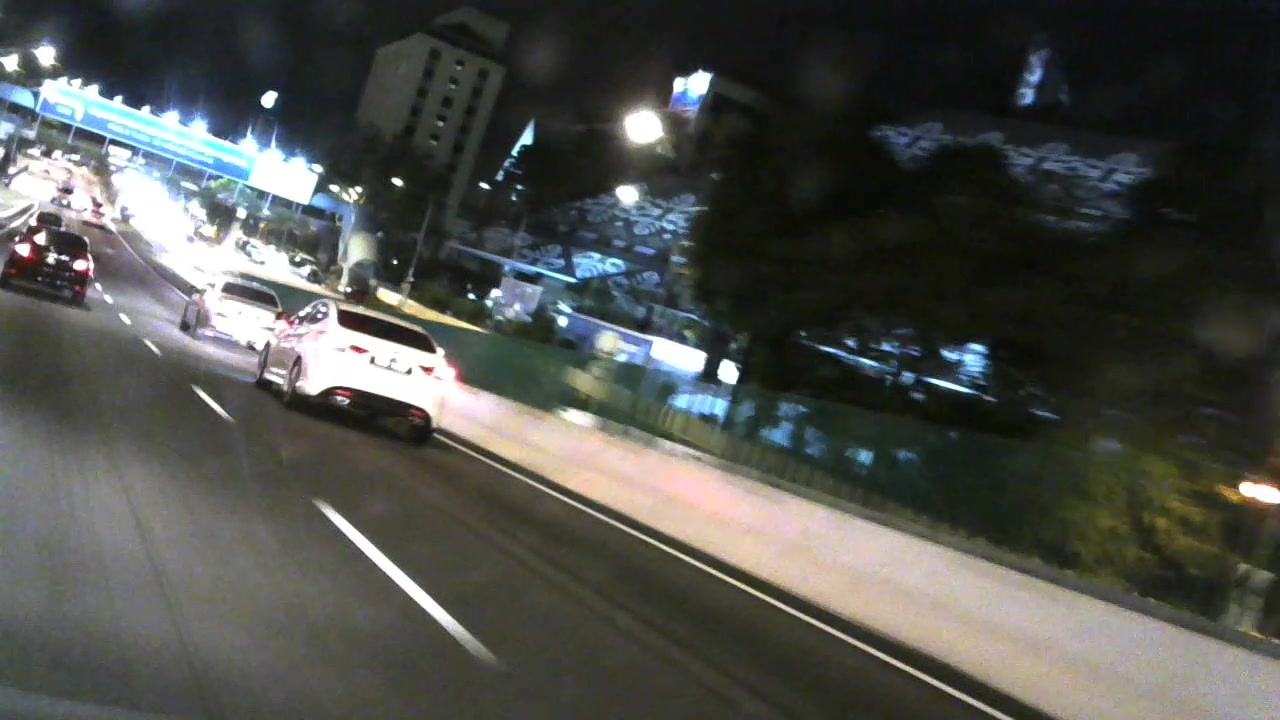Car: (255, 294, 457, 441), (176, 271, 302, 352), (1, 226, 102, 313), (82, 211, 117, 237), (30, 207, 69, 225), (247, 246, 270, 264), (55, 181, 75, 196)
